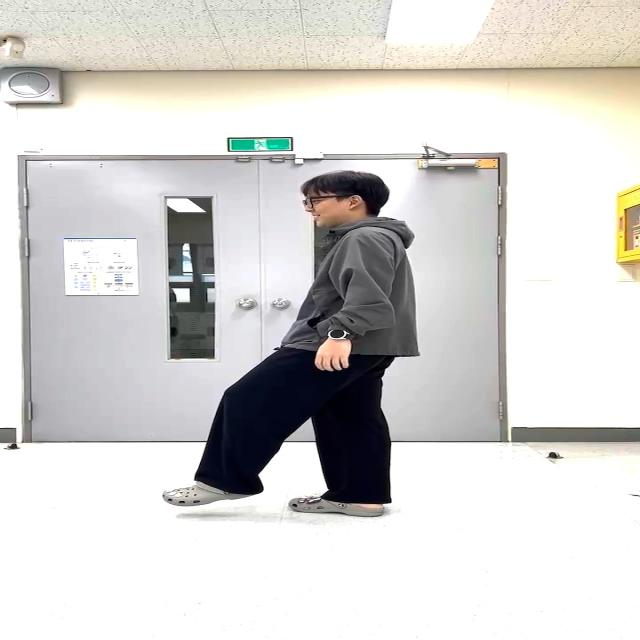leg: (160, 374, 307, 511)
